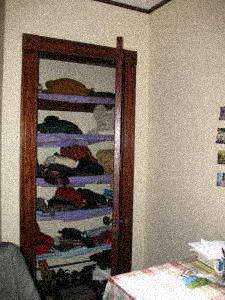Armario: (28, 52, 130, 272)
